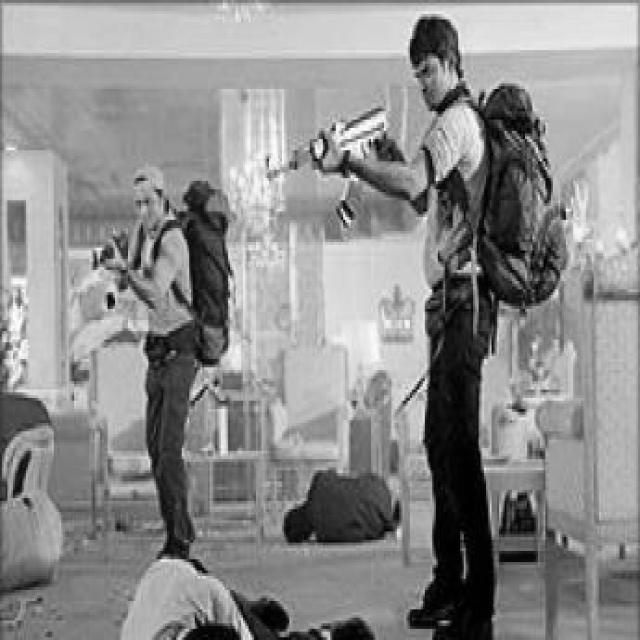gun: (269, 107, 394, 225), (89, 232, 131, 294)
